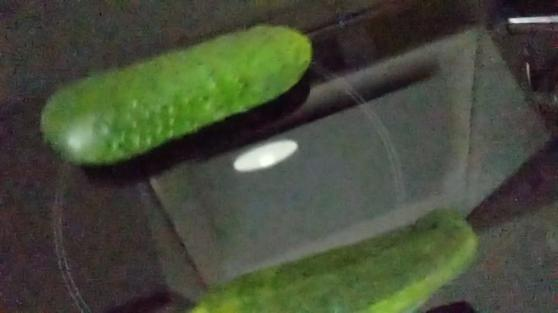cucumber: (40, 23, 312, 167), (191, 209, 477, 313)
